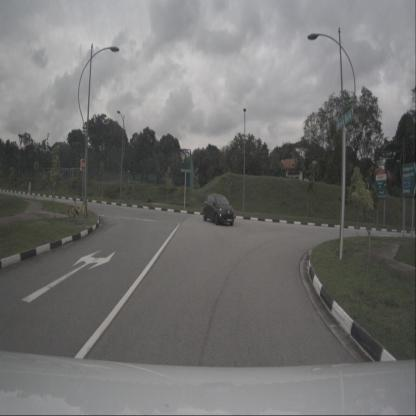vehicle-bicycle: (68, 195, 88, 218)
vehicle-car: (203, 192, 235, 226)
